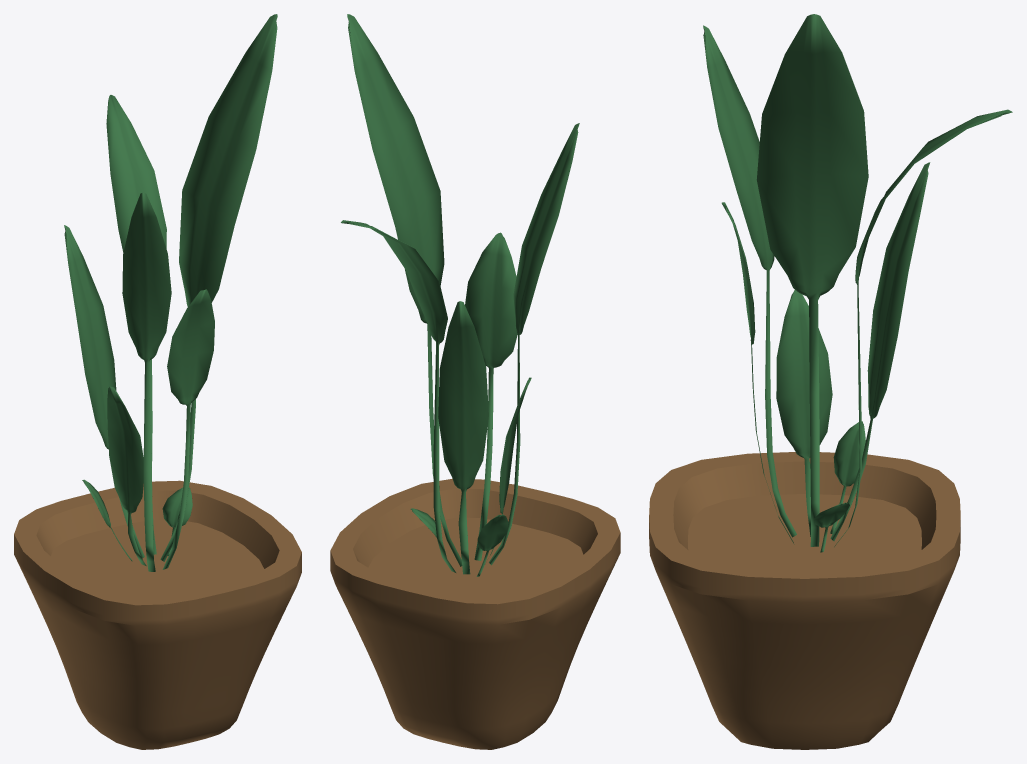
File: Plant.fbx
3 views of the same model, side by side, from view 1: azimuth 30°, elevation 25°; view 2: azimuth 150°, elevation 25°; view 3: azimuth 270°, elevation 25° (orthographic). The views are drawn at different scales.
Parts seen in each view (by area): view 1: Cube.043, Plane; view 2: Cube.043, Plane; view 3: Cube.043, Plane.
Boxes of the visible parts, x1,y1,x2,y2 form: Cube.043: (14, 480, 301, 749); Plane: (64, 14, 277, 571); Cube.043: (330, 478, 620, 749); Plane: (341, 14, 579, 576); Cube.043: (649, 452, 960, 749); Plane: (703, 14, 1012, 552).
Size of the model in its own units: 141 by 386 by 164.
